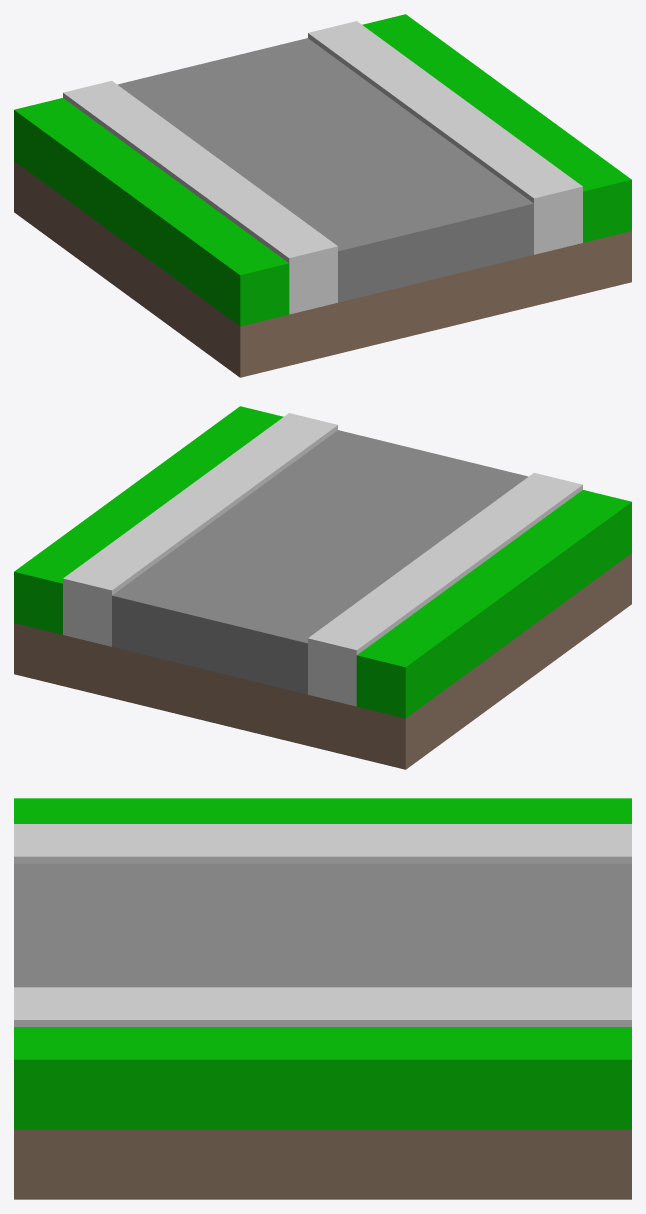
The model's file is RuaReta.fbx.
The picture shows the model from 3 angles, top to bottom: view 1: azimuth 30°, elevation 25°; view 2: azimuth 150°, elevation 25°; view 3: azimuth 270°, elevation 25°; orthographic projection. The views are drawn at different scales.
Visible parts, largest first — view 1: RuaReta; view 2: RuaReta; view 3: RuaReta.
Boxes of the visible parts, box(x1,y1,x2,y2) form: RuaReta: box(14, 14, 631, 377); RuaReta: box(14, 406, 631, 769); RuaReta: box(14, 798, 631, 1199).
Bounding box in the file's own units: 8 × 2.1 × 8.
